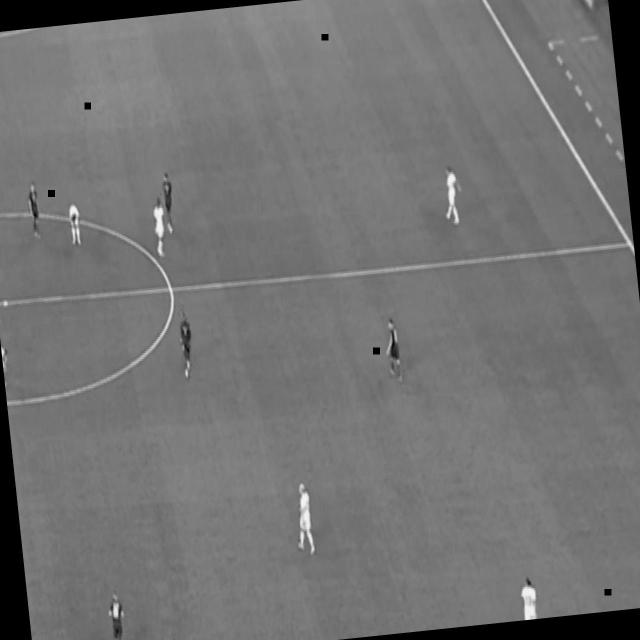player-white: (289, 481, 319, 560), (173, 306, 200, 384), (440, 161, 468, 233), (380, 315, 407, 387), (157, 166, 180, 240), (148, 193, 172, 263), (103, 585, 133, 640), (24, 178, 47, 246), (516, 566, 544, 620), (65, 198, 86, 250), (0, 338, 16, 392)
